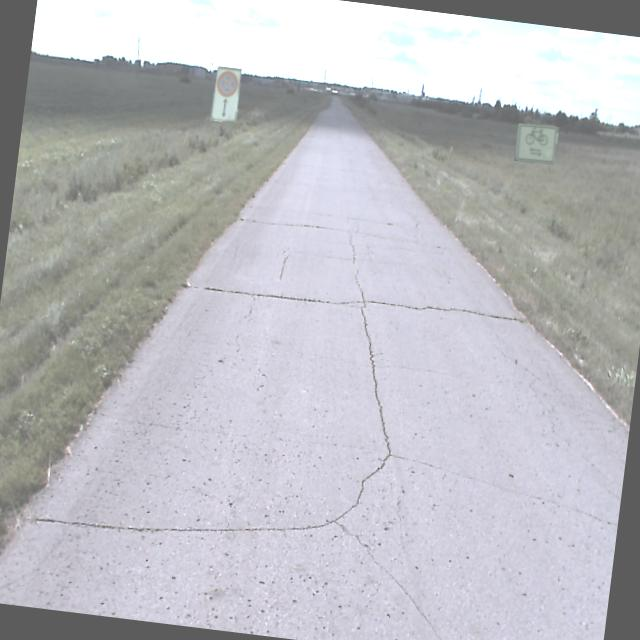road: (0, 98, 628, 640)
